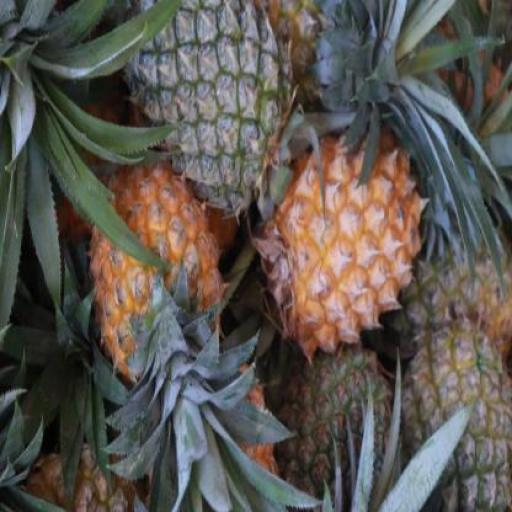------------------------------: (400, 328, 511, 510)
Pineapple - v8 v1: (262, 126, 428, 356), (88, 160, 226, 378)
